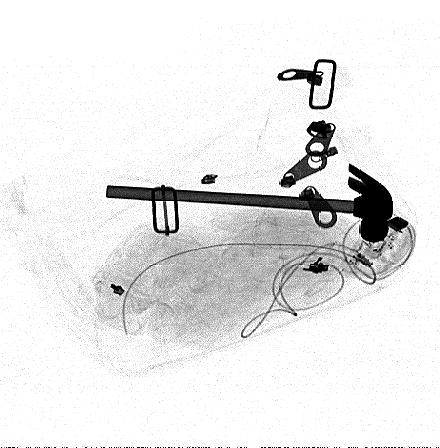Hammer: (105, 163, 394, 243)
